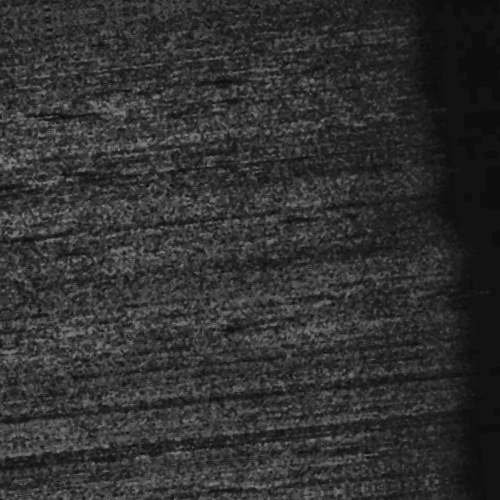object: (0, 121, 25, 150), (15, 158, 68, 163)
shadow: (0, 121, 9, 150), (0, 158, 42, 163)
